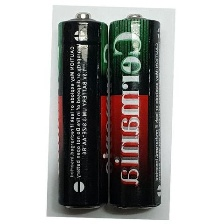battery: (54, 10, 112, 212), (106, 11, 164, 213)
